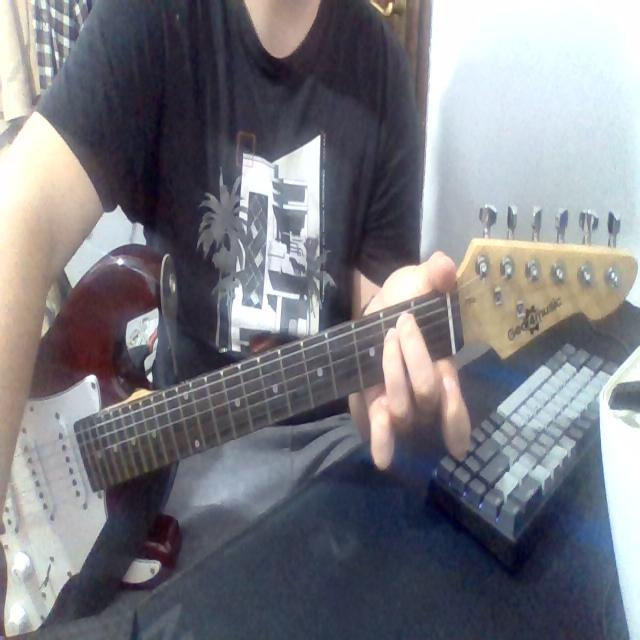Em: (380, 294, 450, 380)
